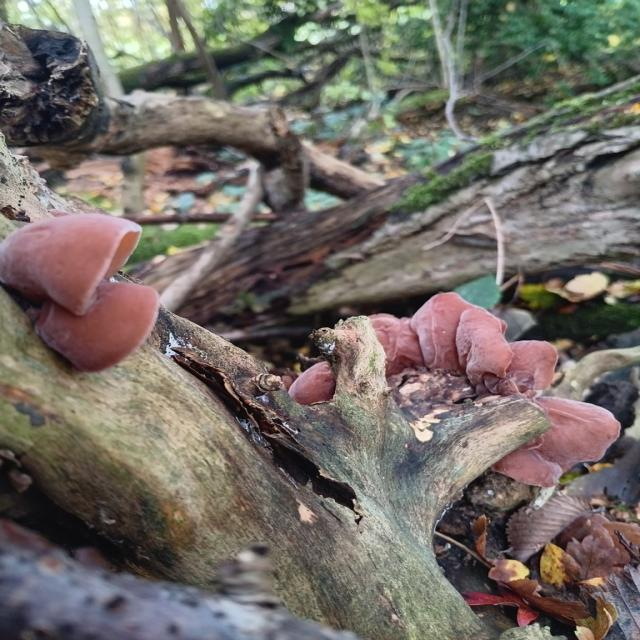Matang: (0, 209, 146, 319), (20, 282, 163, 381), (486, 395, 624, 492), (411, 286, 520, 396), (357, 307, 424, 385), (501, 336, 560, 396), (289, 356, 351, 408)
